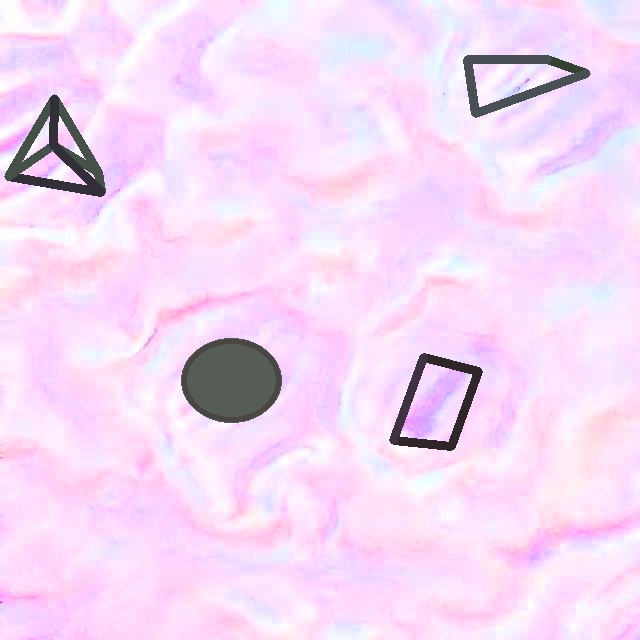open: (5, 95, 101, 195), (389, 353, 482, 450), (182, 338, 280, 421), (463, 55, 590, 117)
